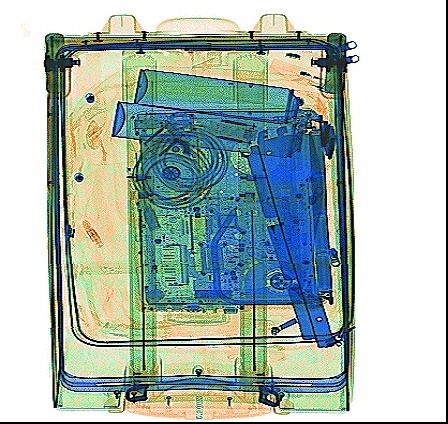lighter: (264, 56, 338, 95)
pressure: (129, 65, 327, 134), (108, 99, 309, 160)
